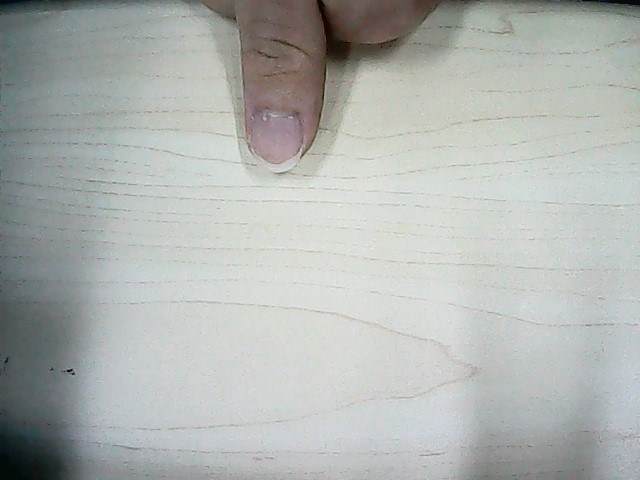nail: (252, 114, 301, 173)
